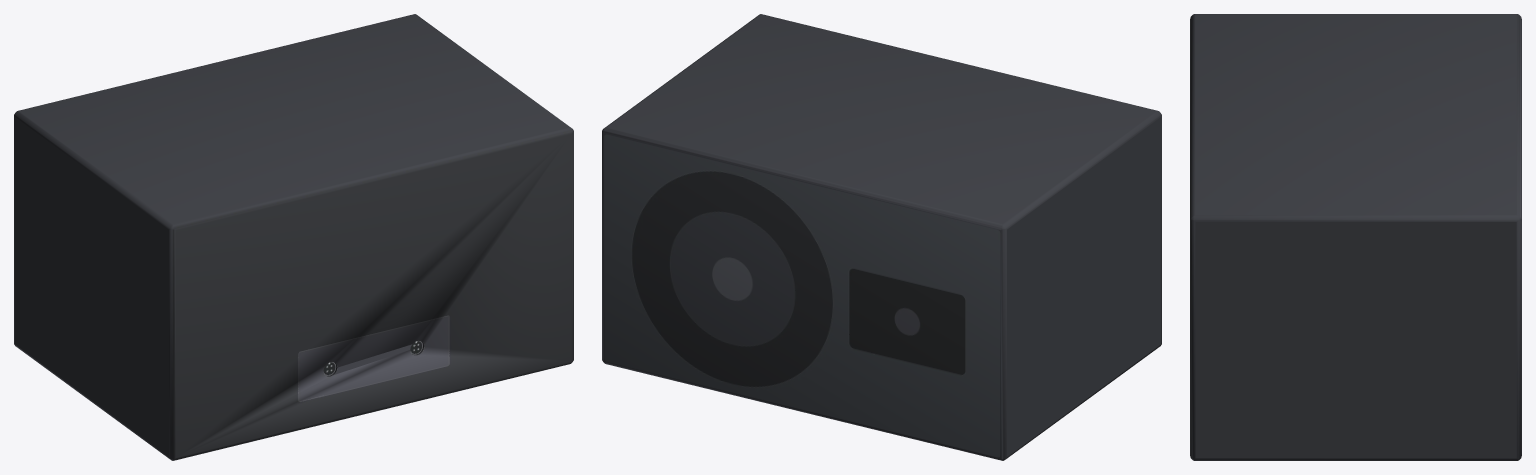
The model's file is l-acoustics-a15-focus.glb.
3 views of the same model, side by side, from view 1: azimuth 30°, elevation 25°; view 2: azimuth 150°, elevation 25°; view 3: azimuth 270°, elevation 25° (orthographic). The views are drawn at different scales.
Visible parts, largest first — view 1: l-acoustics-a15-focus-body; view 2: l-acoustics-a15-focus-body; view 3: l-acoustics-a15-focus-body.
Part boxes in pixels (x1,y1,x2,y2): l-acoustics-a15-focus-body: [14, 14, 573, 460]; l-acoustics-a15-focus-body: [602, 14, 1161, 460]; l-acoustics-a15-focus-body: [1190, 14, 1521, 460].
Bounding box in the file's own units: 0.764 × 0.427 × 0.522.
1 material, 1 textured.
